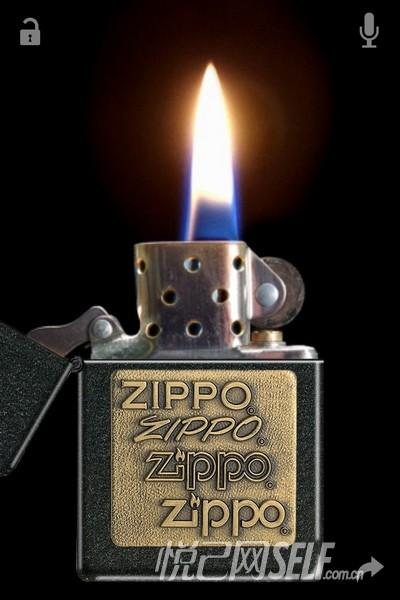fire: (179, 39, 265, 263)
